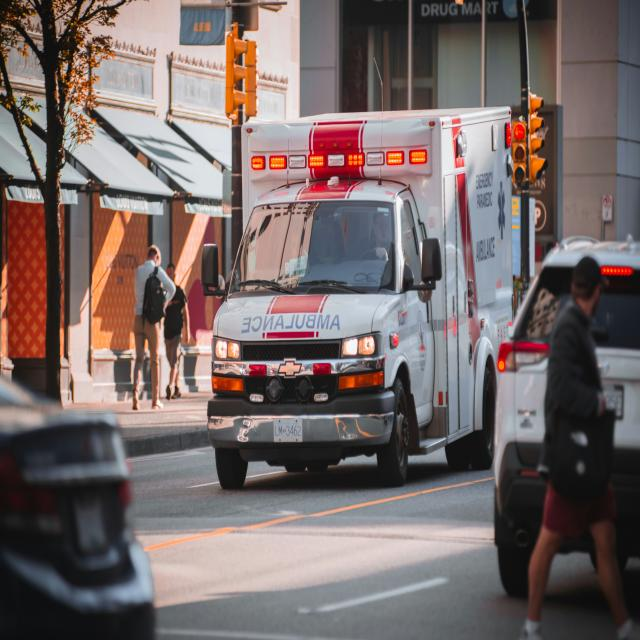emergency: (201, 108, 511, 488)
